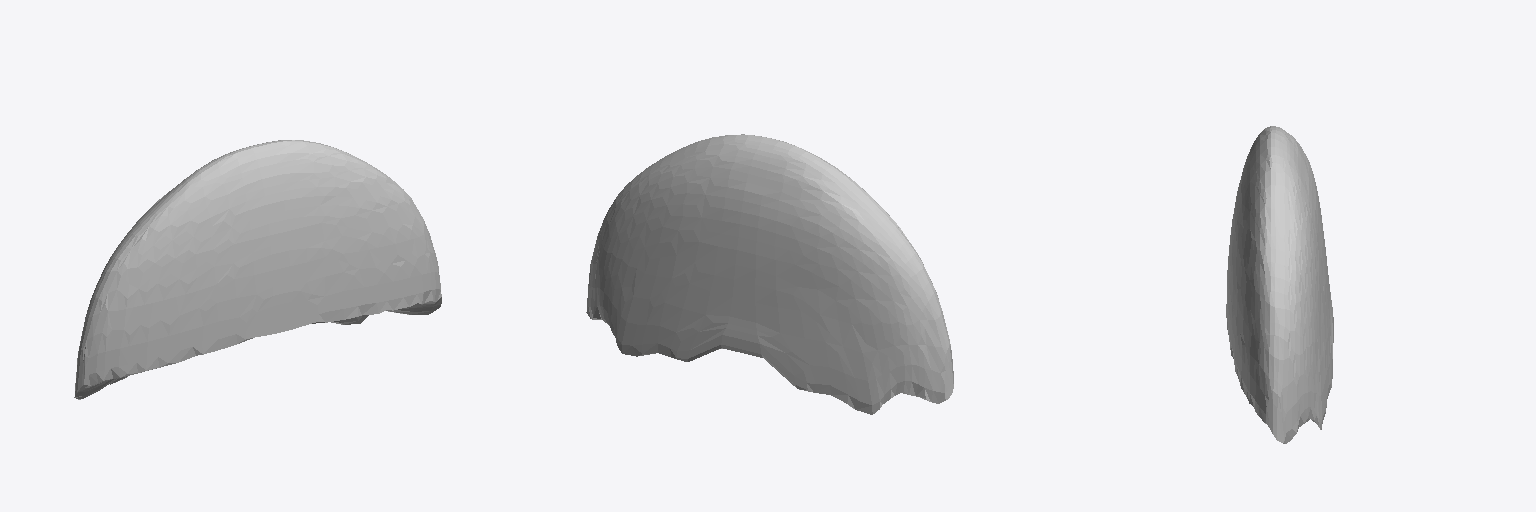
File: stache1.obj
3 renders of one model, left to right at view 1: azimuth 30°, elevation 25°; view 2: azimuth 150°, elevation 25°; view 3: azimuth 270°, elevation 25°, orthographic.
Visible parts, largest first — view 1: stache2_Sphere.007; view 2: stache2_Sphere.007; view 3: stache2_Sphere.007.
Boxes of the visible parts, x1,y1,x2,y2 form: stache2_Sphere.007: [74, 140, 441, 399]; stache2_Sphere.007: [586, 134, 953, 414]; stache2_Sphere.007: [1226, 126, 1333, 443].
Bounding box in the file's own units: 2 × 1.19 × 0.5087.